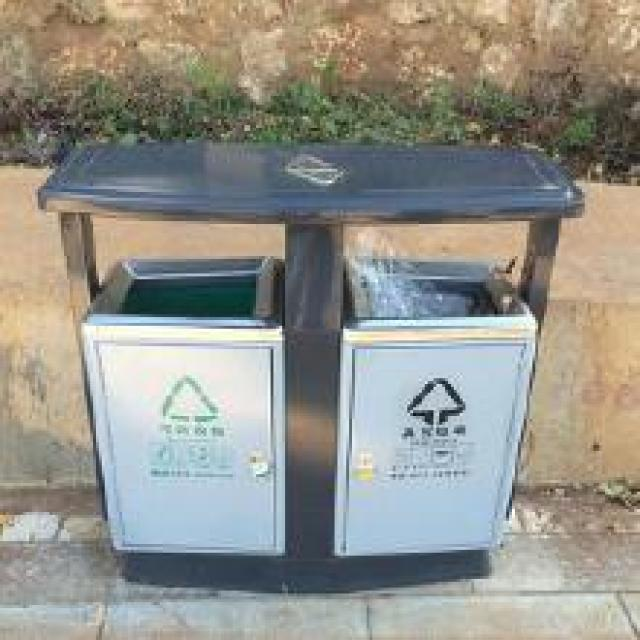garbage_bin: (32, 137, 582, 590)
